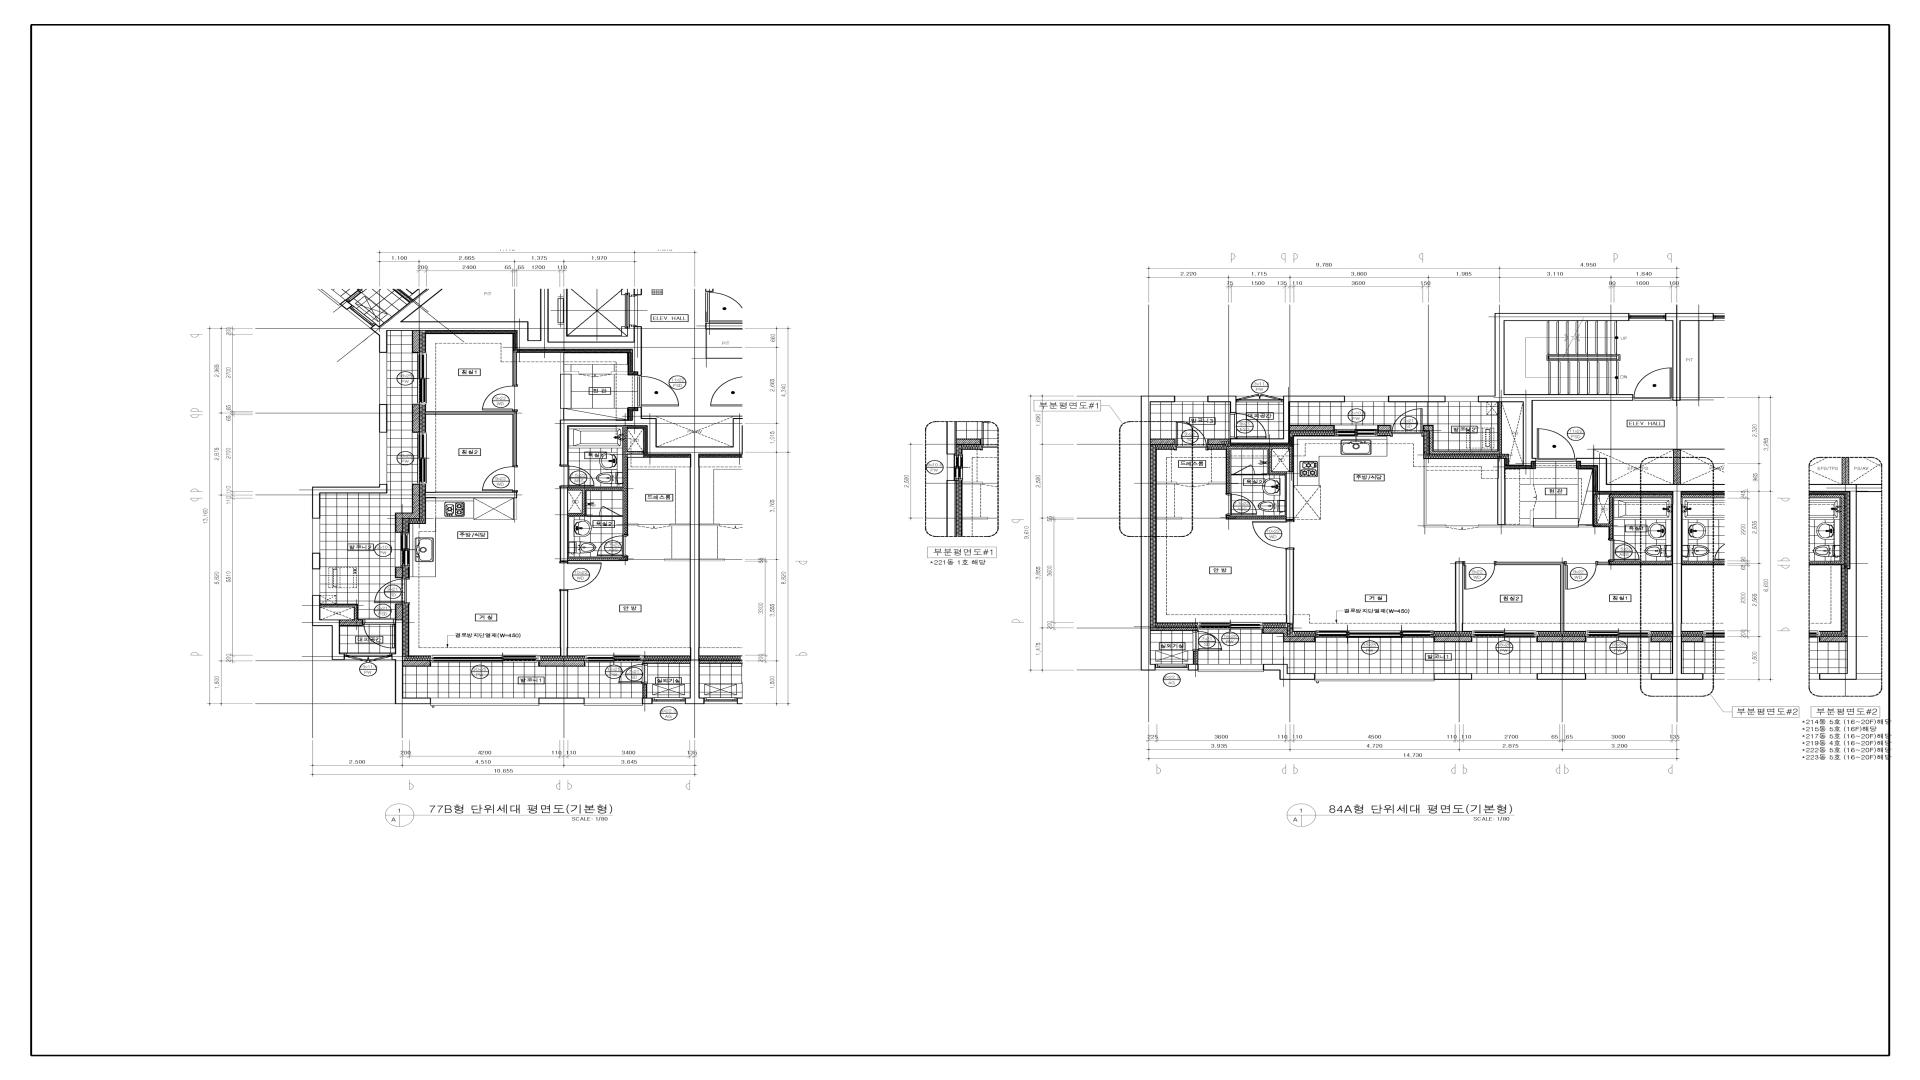door: (637, 376, 679, 407), (1536, 429, 1576, 462), (1634, 368, 1672, 401), (1253, 520, 1295, 549), (559, 562, 601, 591), (1230, 413, 1267, 439), (363, 620, 396, 649), (1175, 422, 1208, 451), (1564, 562, 1598, 589), (483, 465, 518, 492), (483, 385, 518, 411), (1391, 409, 1424, 436), (1464, 562, 1497, 589), (375, 579, 410, 604), (559, 465, 595, 487), (1225, 493, 1257, 516), (1607, 539, 1640, 560), (597, 535, 629, 556), (618, 663, 647, 684), (1192, 632, 1222, 651), (345, 653, 392, 662), (1237, 394, 1283, 402), (1233, 464, 1255, 476), (599, 506, 620, 517), (1176, 483, 1209, 488), (1447, 526, 1478, 530), (638, 525, 670, 529), (579, 375, 612, 377)
wall: (560, 407, 742, 704), (1576, 458, 1725, 680), (1478, 313, 1634, 465), (369, 289, 642, 376), (1141, 396, 1175, 671), (568, 426, 644, 535), (1230, 396, 1345, 443), (425, 411, 517, 465), (1598, 498, 1672, 566), (1497, 562, 1564, 632), (1665, 313, 1713, 401), (1424, 402, 1502, 455), (1209, 446, 1294, 493), (1478, 458, 1534, 527), (1593, 495, 1672, 539), (392, 620, 430, 704), (1226, 476, 1286, 520), (313, 484, 388, 518), (313, 595, 345, 661), (1423, 459, 1447, 527), (1681, 320, 1700, 401), (394, 484, 421, 533), (1593, 448, 1725, 458), (320, 604, 364, 626), (1263, 665, 1315, 680), (1262, 628, 1316, 642), (1455, 562, 1464, 632), (425, 492, 517, 498), (560, 487, 568, 562), (1286, 549, 1294, 624), (560, 591, 568, 657), (1208, 396, 1237, 413), (560, 352, 579, 375), (1286, 472, 1294, 520), (1389, 396, 1445, 402), (1536, 636, 1586, 642), (1538, 674, 1586, 680), (568, 556, 628, 562), (538, 661, 585, 667), (539, 698, 584, 704), (1290, 425, 1335, 431), (1673, 450, 1681, 484), (1433, 636, 1473, 642), (411, 405, 421, 433), (1435, 674, 1472, 680), (380, 405, 388, 433), (411, 331, 421, 352), (1151, 628, 1199, 632), (404, 661, 431, 667), (644, 661, 690, 665), (1651, 636, 1672, 642), (513, 351, 517, 385), (642, 415, 742, 417), (1151, 439, 1175, 444), (313, 554, 320, 570), (396, 604, 404, 620), (1208, 439, 1230, 444), (396, 567, 404, 579), (1378, 425, 1391, 431), (1188, 665, 1199, 671), (1193, 651, 1199, 665), (642, 698, 653, 704), (665, 559, 690, 562), (1156, 517, 1182, 520), (1530, 469, 1534, 485), (514, 498, 517, 520), (644, 684, 647, 698), (670, 524, 690, 526), (612, 372, 628, 375), (628, 524, 638, 526), (1156, 483, 1176, 484)
window: (1315, 674, 1435, 682), (1316, 630, 1433, 638), (430, 698, 539, 705), (431, 655, 538, 663), (417, 352, 427, 405), (1335, 425, 1378, 436), (1197, 622, 1262, 630), (1199, 665, 1263, 673), (1586, 630, 1651, 638), (1473, 630, 1536, 638), (396, 533, 410, 567), (418, 433, 427, 484), (584, 698, 644, 705), (585, 655, 644, 663), (380, 352, 388, 405), (380, 433, 388, 484), (1472, 674, 1538, 679), (1586, 674, 1651, 679), (1345, 396, 1389, 402), (313, 518, 320, 554), (1630, 314, 1665, 320), (1445, 396, 1478, 402), (653, 698, 686, 704), (1175, 396, 1208, 402), (313, 570, 320, 595), (1155, 665, 1188, 670)
